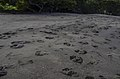human_foot_print: (10, 41, 30, 48), (61, 68, 78, 76), (0, 31, 16, 38), (70, 55, 82, 63), (18, 59, 33, 65), (74, 49, 87, 54), (40, 30, 56, 34), (0, 66, 6, 76), (35, 51, 48, 55), (78, 41, 88, 44), (45, 36, 53, 39), (85, 76, 94, 78), (0, 45, 3, 48)
